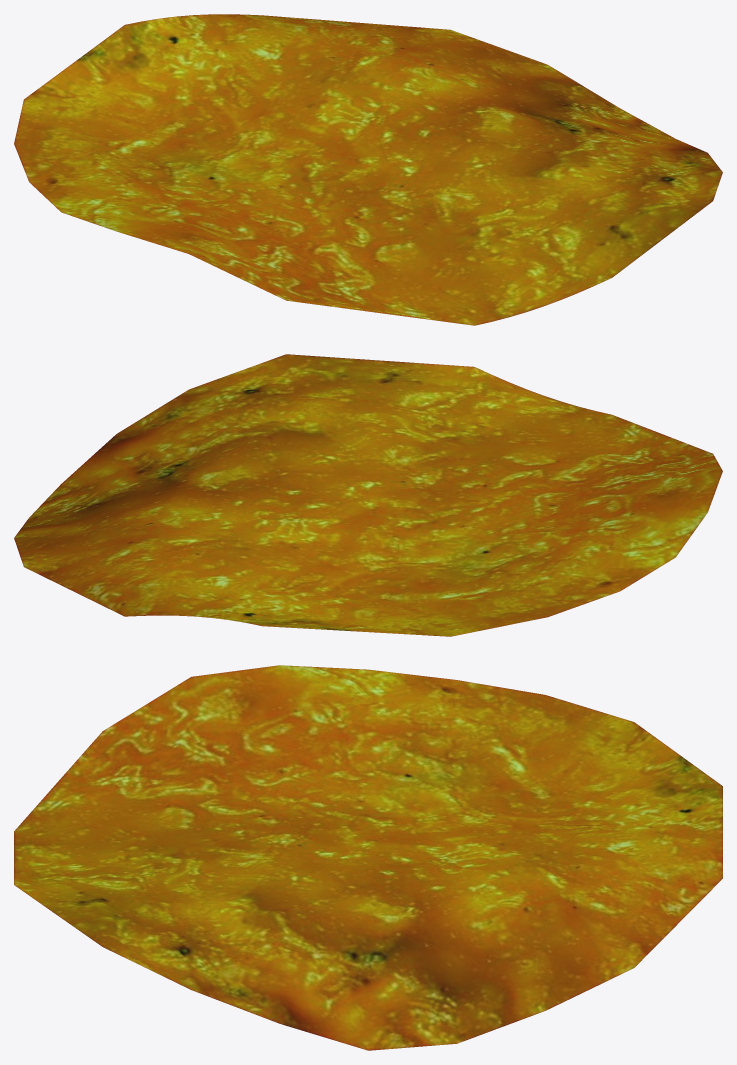
The model's file is water.obj.
3 views of the same model, one above another, from view 1: azimuth 30°, elevation 25°; view 2: azimuth 150°, elevation 25°; view 3: azimuth 270°, elevation 25° (orthographic).
Parts seen in each view (by area): view 1: Plane001; view 2: Plane001; view 3: Plane001.
Boxes of the visible parts, <box> form: Plane001: <box>14,14,722,325</box>; Plane001: <box>14,354,722,636</box>; Plane001: <box>14,665,722,1050</box>.
Bounding box in the file's own units: 192 × 26.59 × 190.
1 material, 1 textured.
